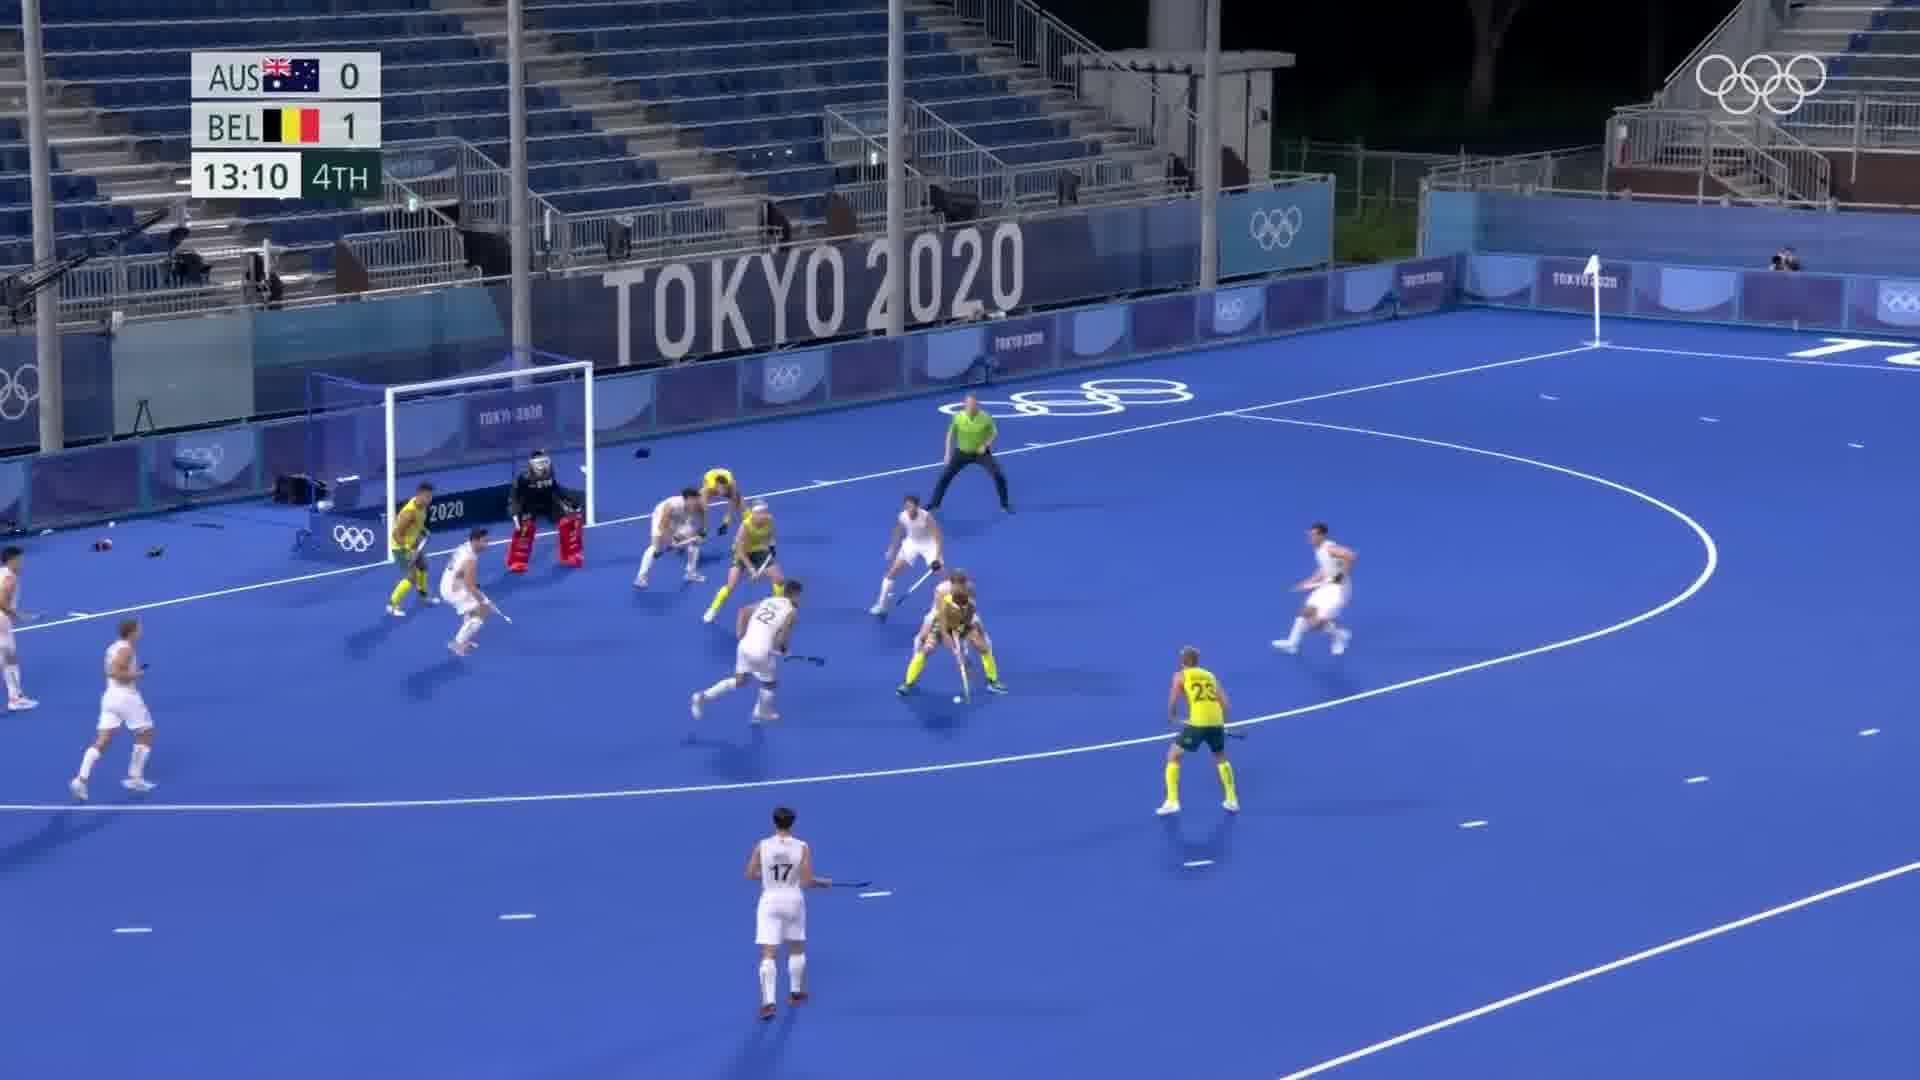ball: (948, 694, 963, 708)
